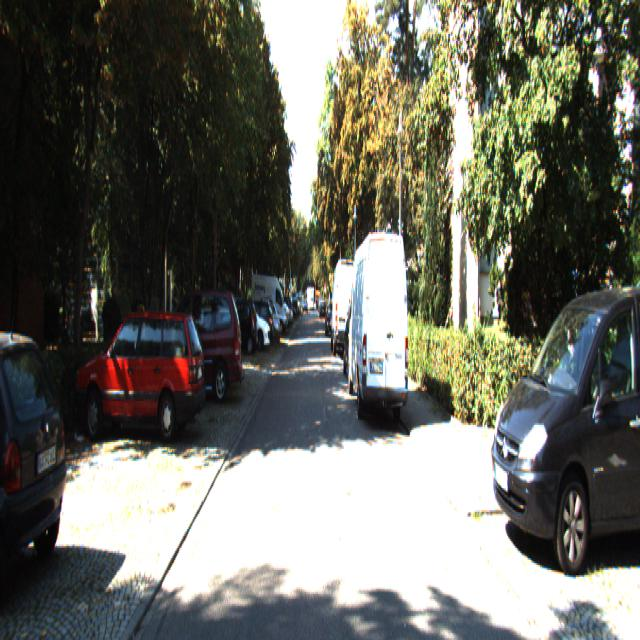Car: (488, 278, 640, 574), (0, 322, 71, 596), (75, 308, 206, 446), (149, 288, 243, 413), (348, 227, 410, 416), (331, 257, 358, 356), (227, 296, 271, 354), (250, 273, 289, 336), (218, 296, 258, 356)
